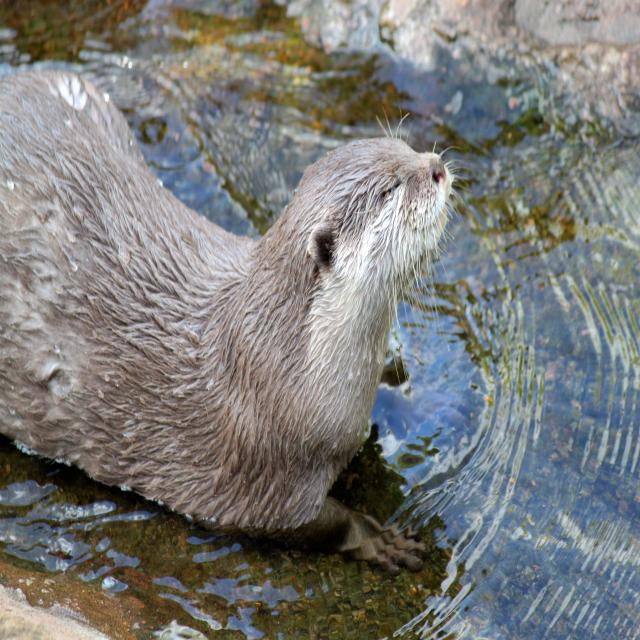otter: (1, 71, 452, 531)
